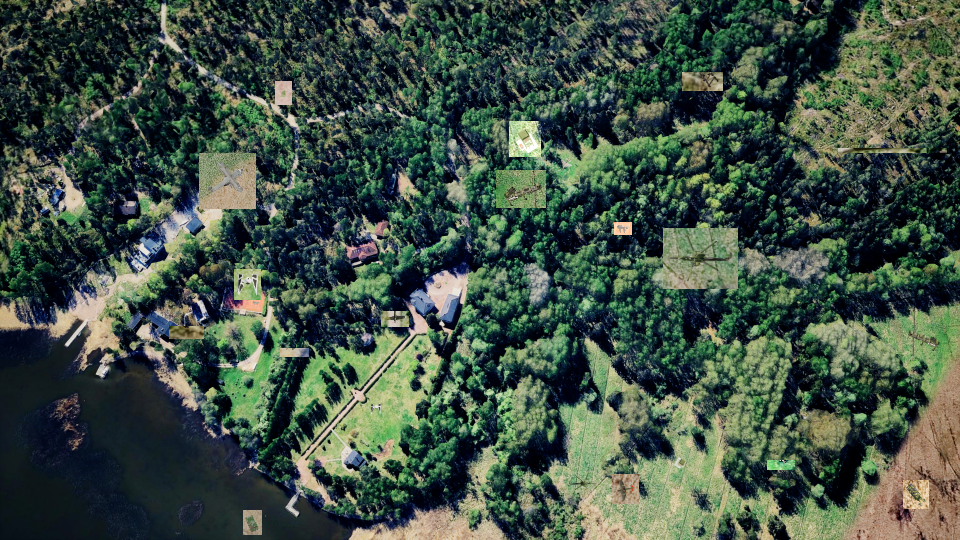condor: (199, 153, 256, 209)
hangar: (838, 148, 947, 153)
helicopter: (663, 228, 738, 289)
jammer: (243, 510, 262, 535)
jet_plane: (767, 460, 795, 470)
large_launcher: (496, 170, 546, 208)
large_tower: (682, 72, 723, 91)
medium_launcher: (169, 326, 204, 339)
medium_plane: (381, 311, 409, 327)
mine_roller: (903, 480, 929, 509)
small_launcher: (275, 81, 292, 105)
small_plane: (612, 474, 639, 504)
small_tower: (509, 121, 541, 157)
spacecraft: (234, 269, 261, 300)
ta-ta: (614, 222, 632, 235)
tank: (280, 348, 309, 357)
